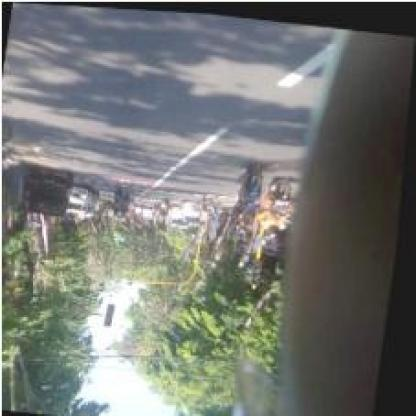yellow: (254, 255, 266, 280), (108, 302, 119, 326)
